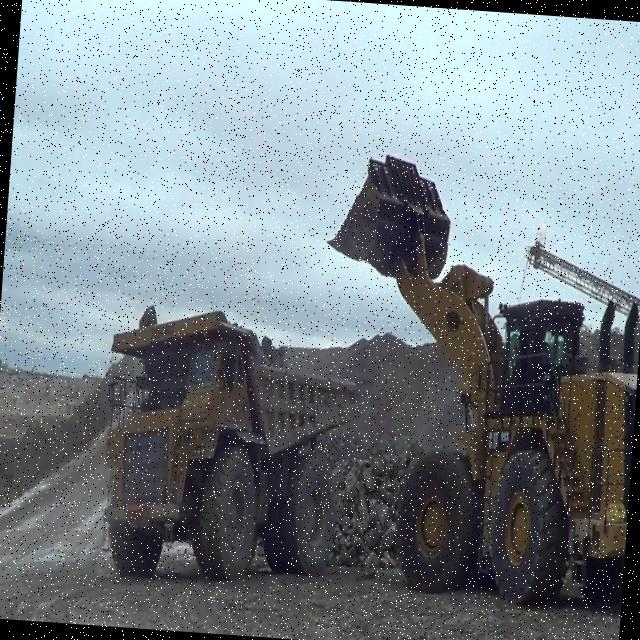Dump Truck: (91, 296, 364, 590)
Loader: (303, 147, 640, 614)
